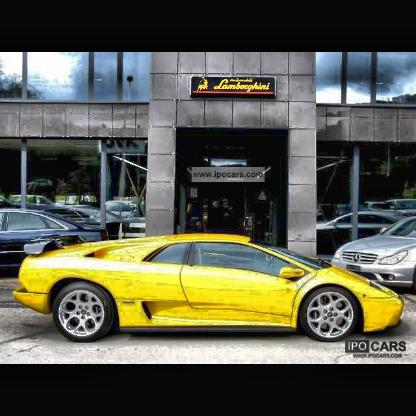Lamborghini Diablo Coupe 2001: (16, 233, 407, 341)
